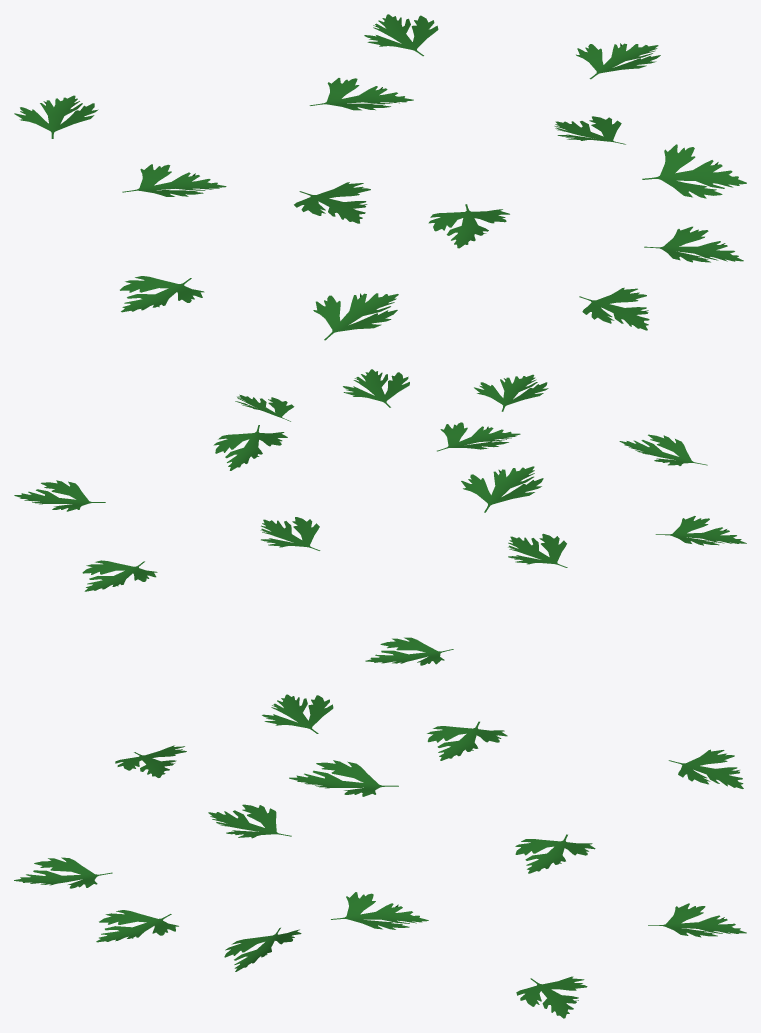
Rendered from Pizza_Parsley.fbx.
3 renders of one model, top to bottom at view 1: azimuth 30°, elevation 25°; view 2: azimuth 150°, elevation 25°; view 3: azimuth 270°, elevation 25°, orthographic. The views are drawn at different scales.
Parts seen in each view (by area): view 1: 9parsley; view 2: 9parsley; view 3: 9parsley.
Part boxes in pixels (bbox=[...]): 9parsley: bbox=[14, 14, 746, 340]; 9parsley: bbox=[14, 369, 746, 665]; 9parsley: bbox=[14, 694, 746, 1018].
Bounding box in the file's own units: 53.64 × 3.01 × 52.19.
